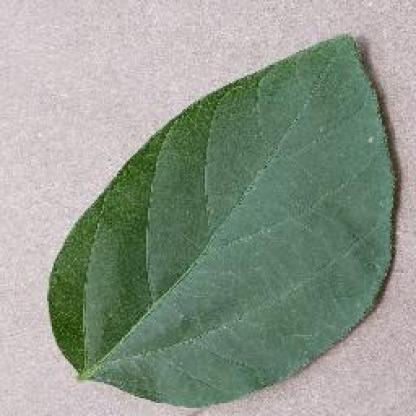soy: (43, 35, 403, 413)
